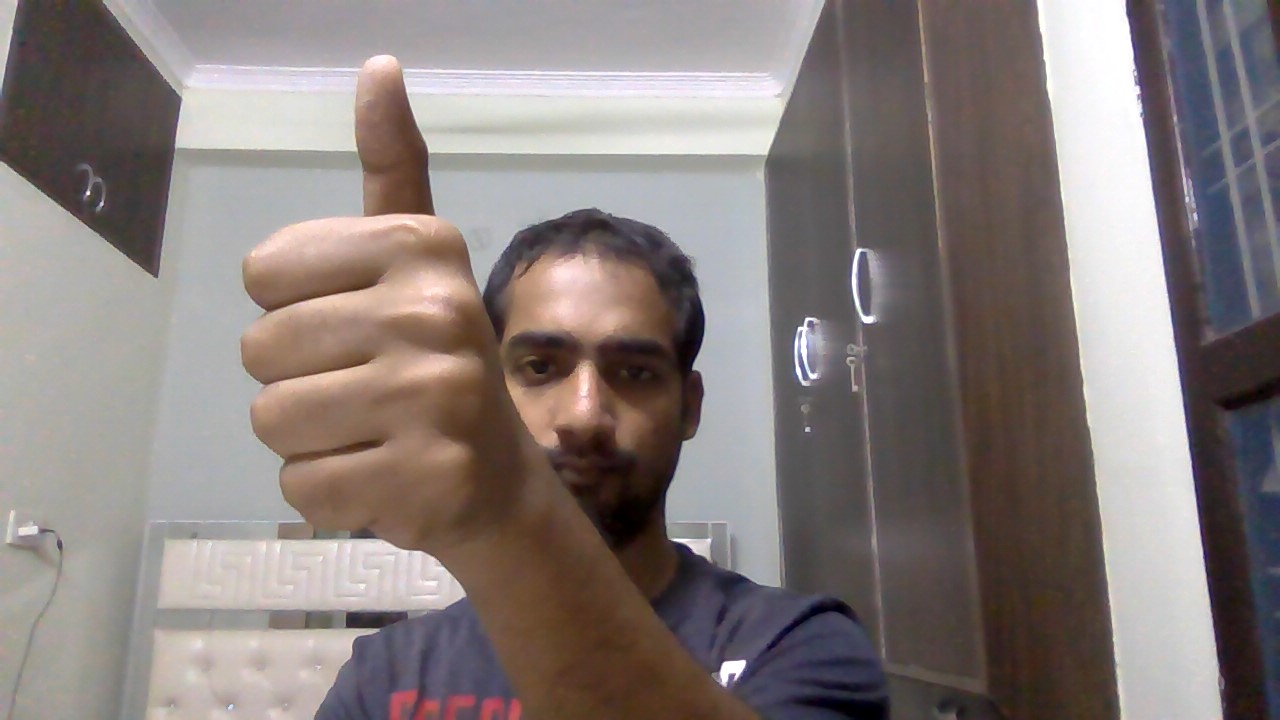Save: (217, 45, 543, 572)
